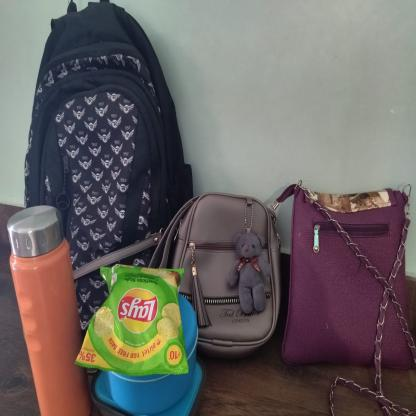cream_and_onion: (74, 265, 189, 372)
